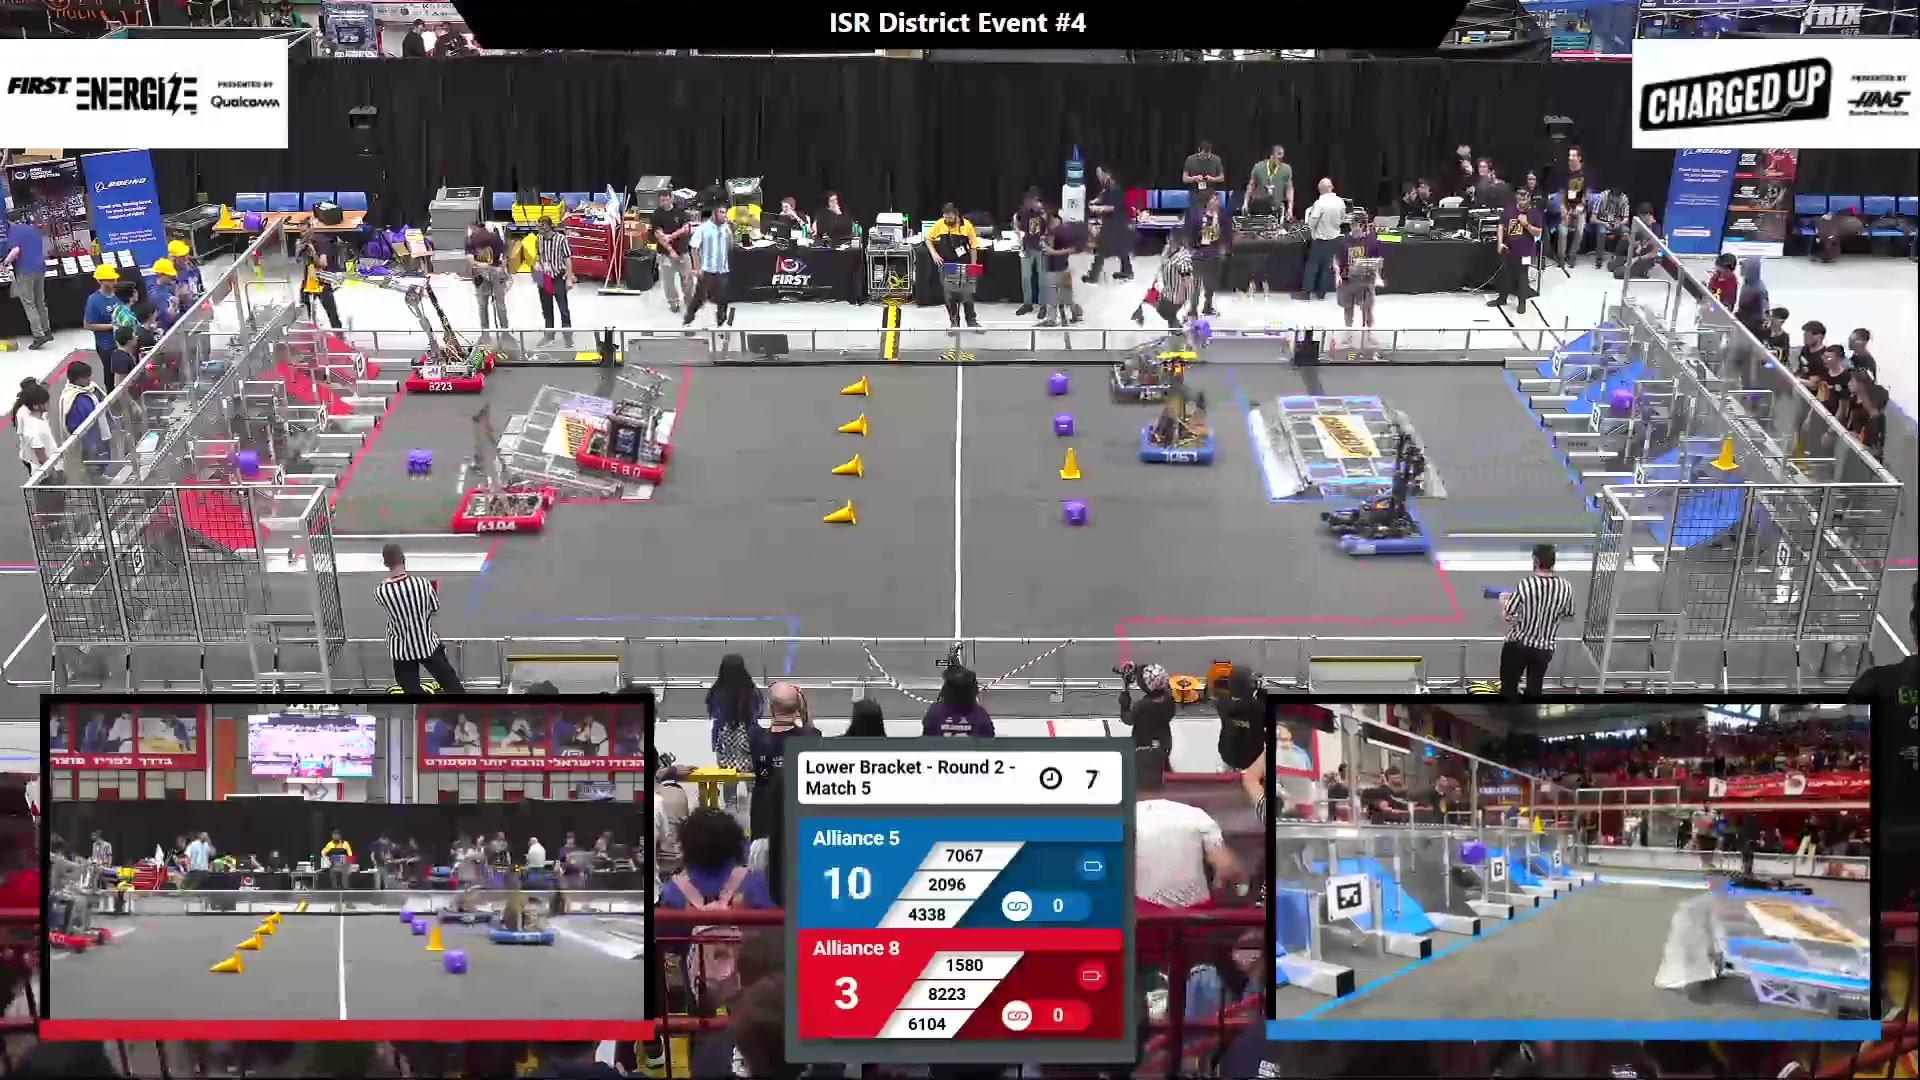robot: (302, 262, 497, 394), (1319, 426, 1435, 559), (447, 404, 558, 535), (578, 363, 676, 484), (1138, 349, 1217, 465), (1112, 316, 1209, 404), (51, 853, 113, 949), (487, 868, 556, 947), (440, 872, 492, 924)
